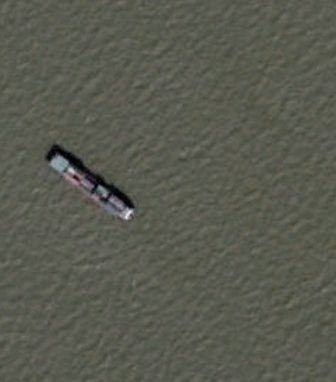boat: (46, 149, 137, 223)
